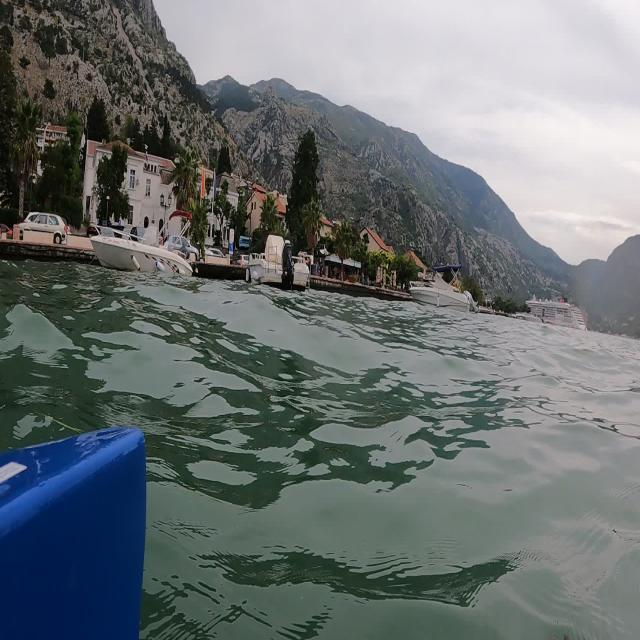boat: (86, 212, 203, 302), (236, 223, 316, 306), (404, 252, 481, 318), (525, 288, 602, 352)
